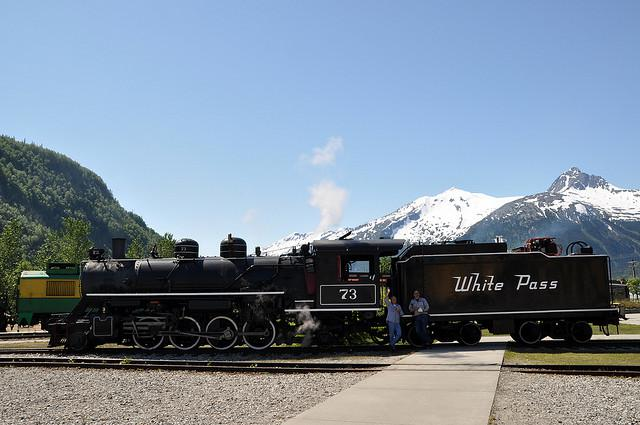Train: (44, 234, 624, 360), (19, 263, 81, 329)
